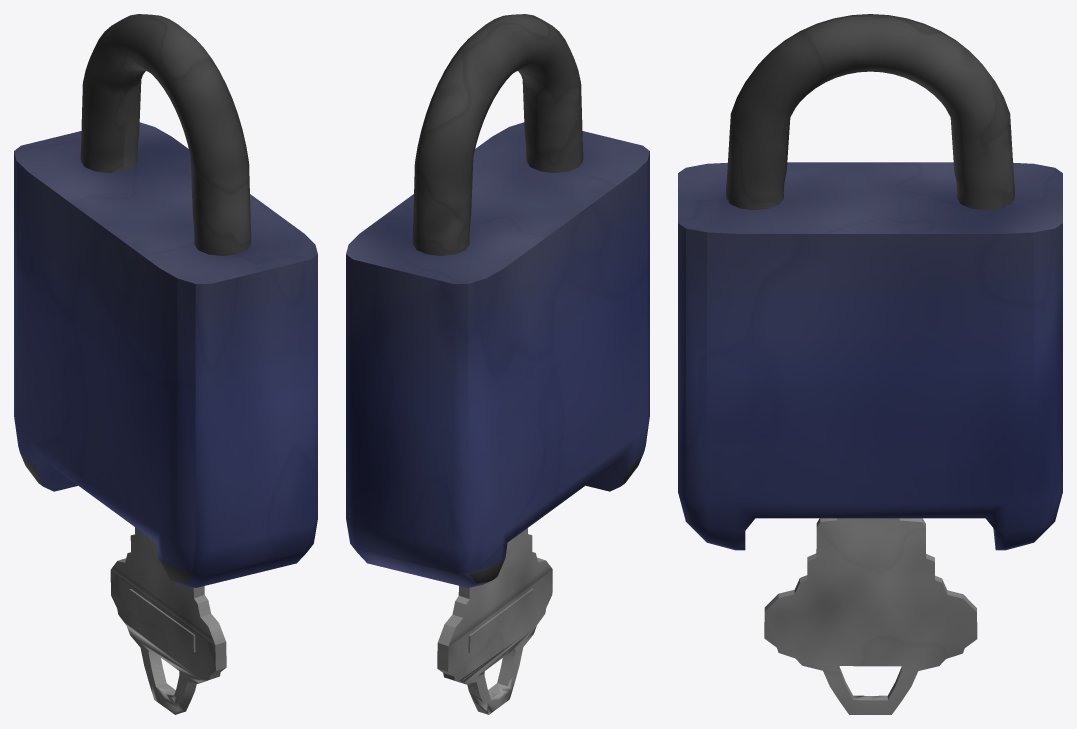
File: caleblock(textured).fbx
3 views of the same model, side by side, from view 1: azimuth 30°, elevation 25°; view 2: azimuth 150°, elevation 25°; view 3: azimuth 270°, elevation 25° (orthographic).
Parts seen in each view (by area): view 1: lockbody, lockhandle, Key1; view 2: lockbody, lockhandle, Key1; view 3: lockbody, lockhandle, Key1.
Part boxes in pixels (<box>): lockbody: <box>14,122,317,587</box>; lockhandle: <box>80,14,251,255</box>; Key1: <box>110,527,226,714</box>; lockbody: <box>346,122,649,587</box>; lockhandle: <box>412,14,583,255</box>; Key1: <box>437,528,552,714</box>; lockbody: <box>678,162,1062,550</box>; lockhandle: <box>726,14,1014,210</box>; Key1: <box>764,518,977,714</box>.
Size of the model in its own units: 79.57 by 361 by 181.
1 material, 1 textured.
